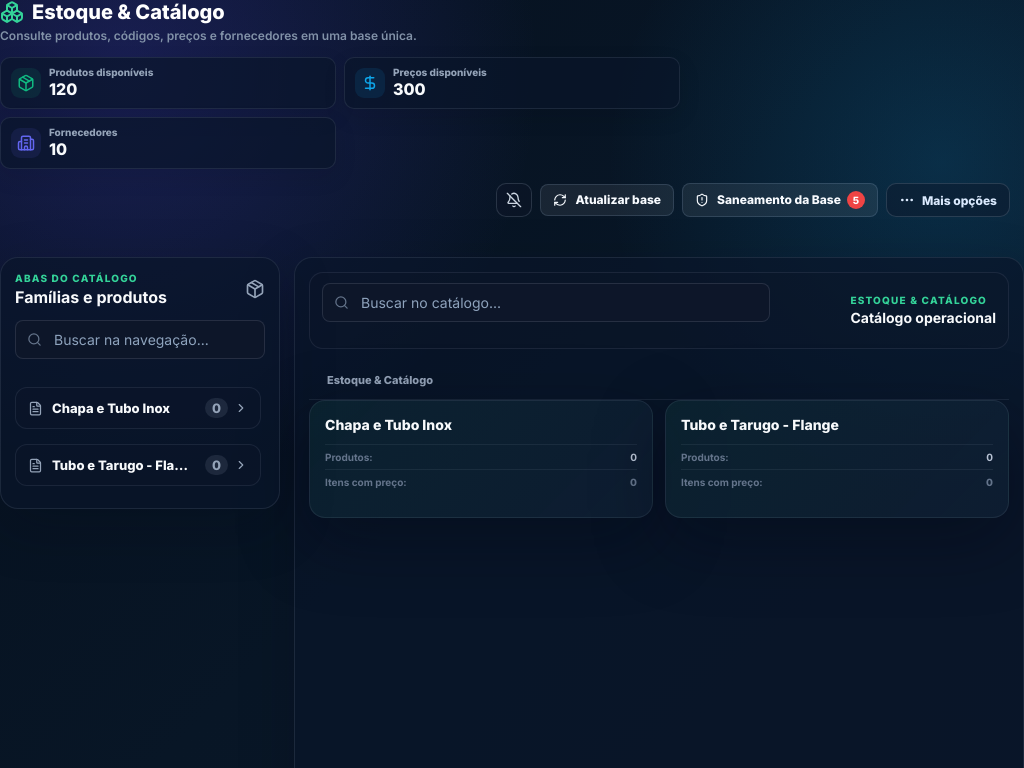
Test: StockPage Component Tests › exibe autocomplete com sugestoes de busca, e clicar abre o drawer do item
Type "Tubo" into the field with placeholder "Buscar no catálogo..." at (546, 302), box [322,283,770,322]
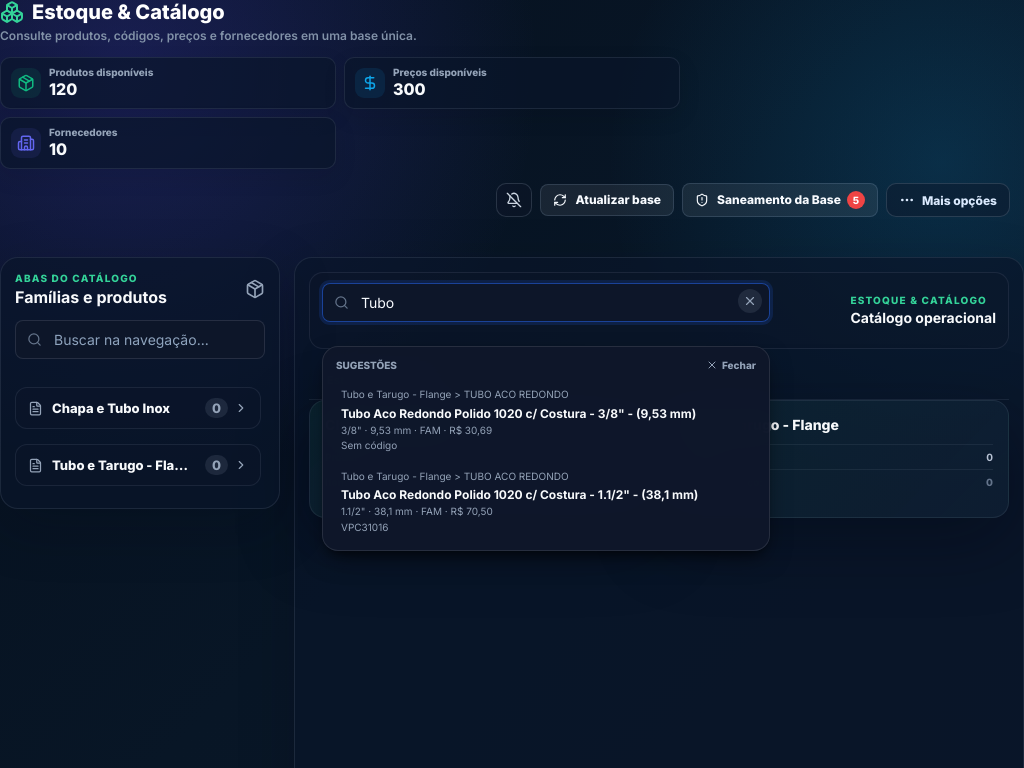
Expected: the text "Sugestões" is shown, [336,359,397,371]
Expected: the text "Tubo Aco Redondo Polido 1020 c/ Costura - 3/8\" - (9,53 mm)" is shown
// Clicar na sugestao deve abrir o drawer lateral e esconder sugestoes
Click the text "Tubo Aco Redondo Polido 1020 c/ Costura - 3/8\" - (9,53 mm)" at (546, 413), box [341,406,751,420]
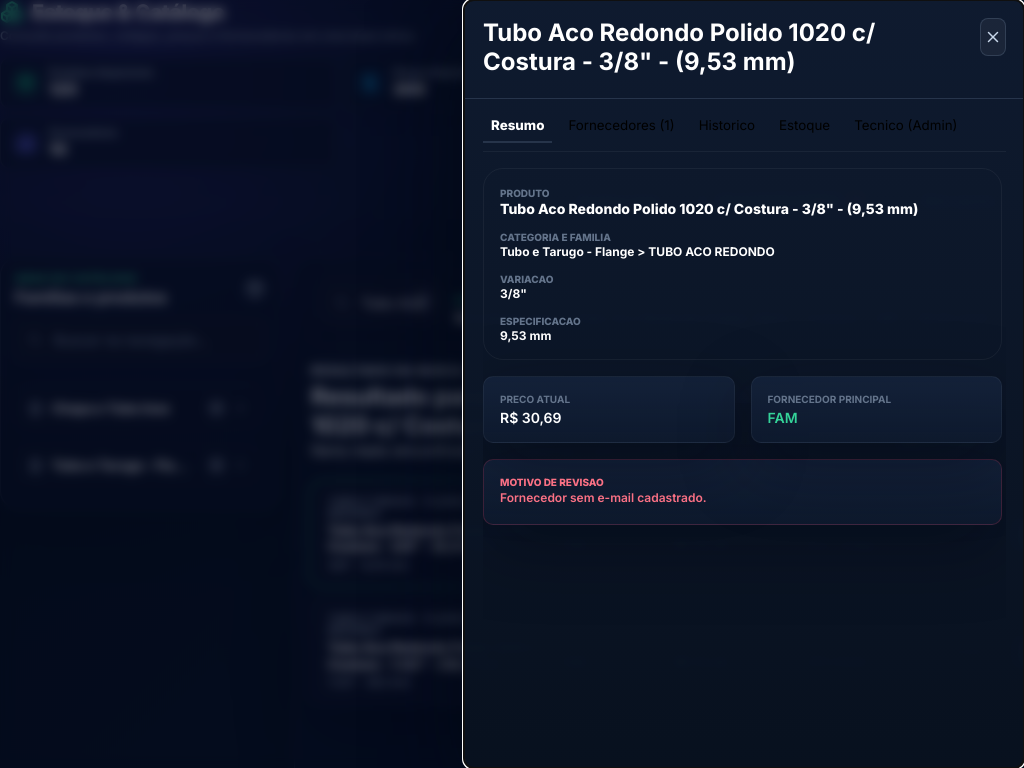
Expected: the text "Sugest" is gone
Expected: the heading "Tubo Aco Redondo Polido 1020 c/ Costura - 3/8\" - (9,53 mm)" is shown, [311,382,841,440]
